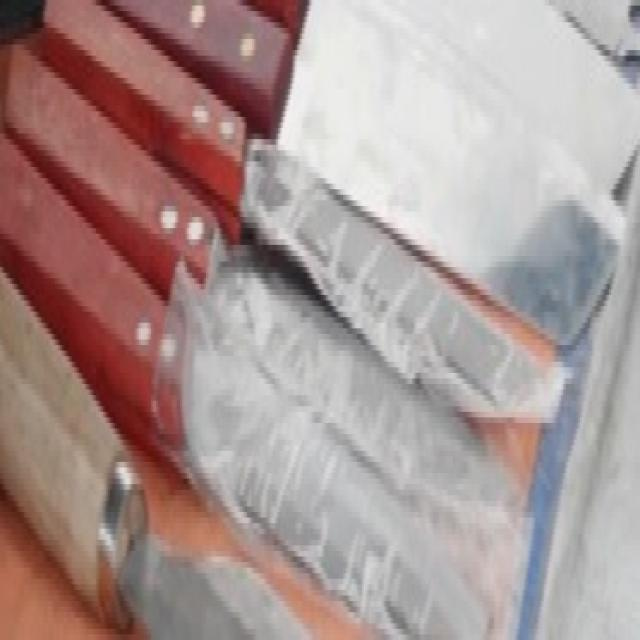knives: (276, 24, 625, 384)
